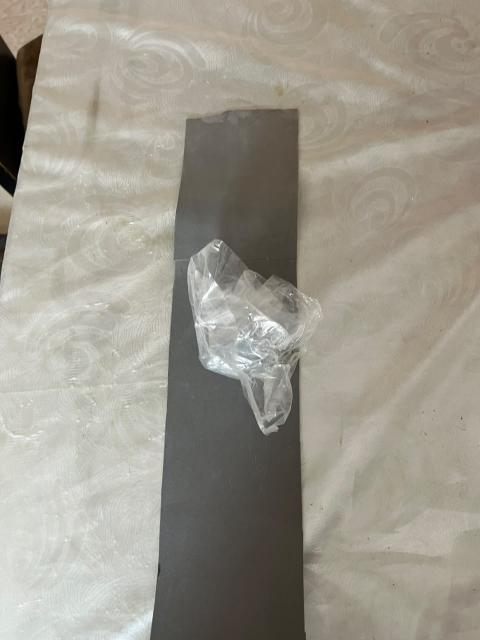LDPE: (173, 218, 335, 453)
